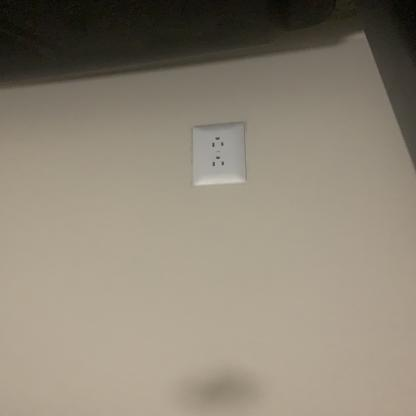OUTLET: (191, 122, 246, 186)
